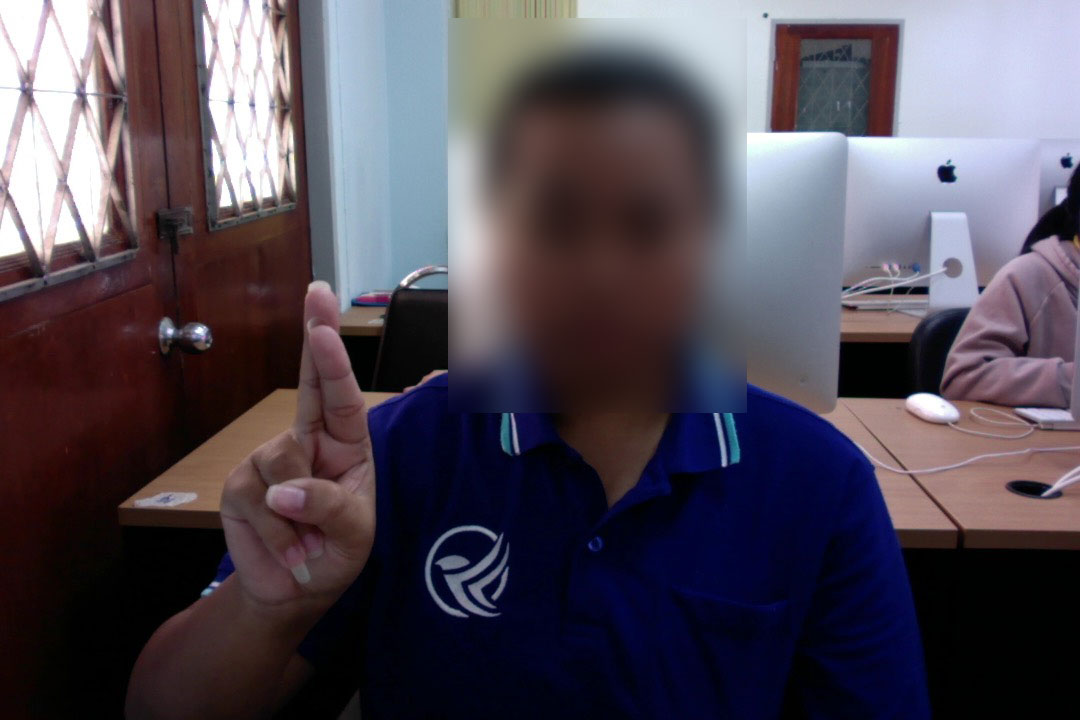rao: (206, 280, 390, 616)
